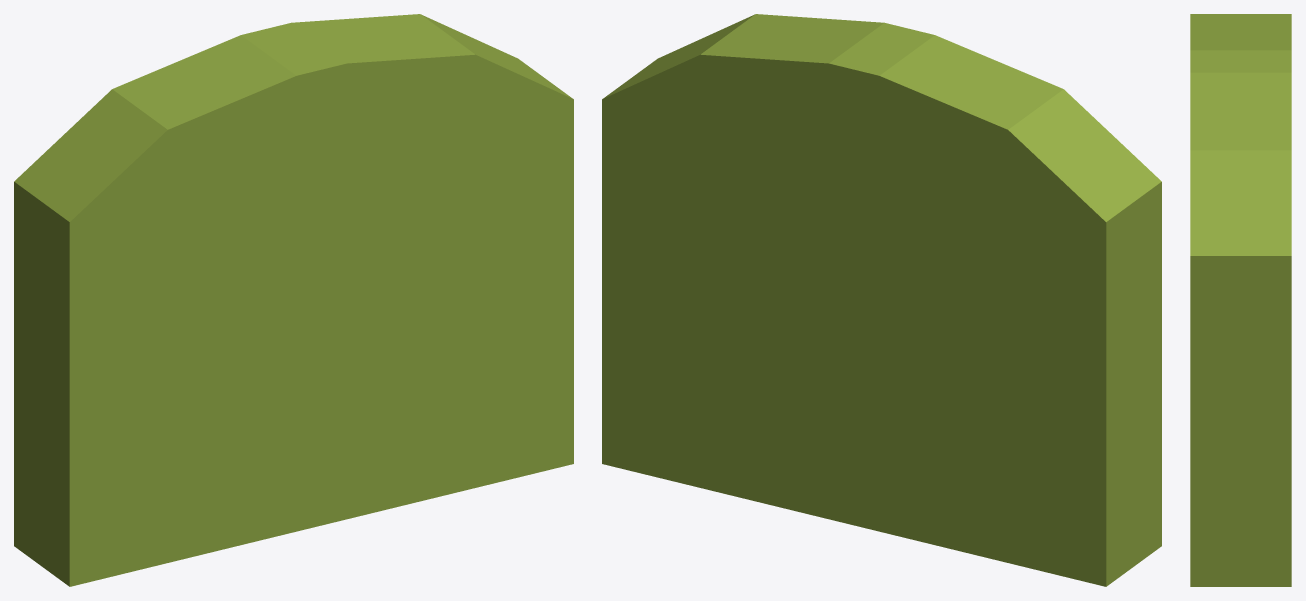
The model's file is side wall 2 big window.glb.
3 renders of one model, left to right at view 1: azimuth 30°, elevation 25°; view 2: azimuth 150°, elevation 25°; view 3: azimuth 270°, elevation 25°, orthographic. The views are drawn at different scales.
Parts seen in each view (by area): view 1: big window half.001; view 2: big window half.001; view 3: big window half.001.
Part boxes in pixels (<box>): big window half.001: <box>14,14,573,586</box>; big window half.001: <box>602,14,1161,586</box>; big window half.001: <box>1190,14,1291,586</box>.
Bounding box in the file's own units: 115 × 99.38 × 22.
1 material, 1 textured.
